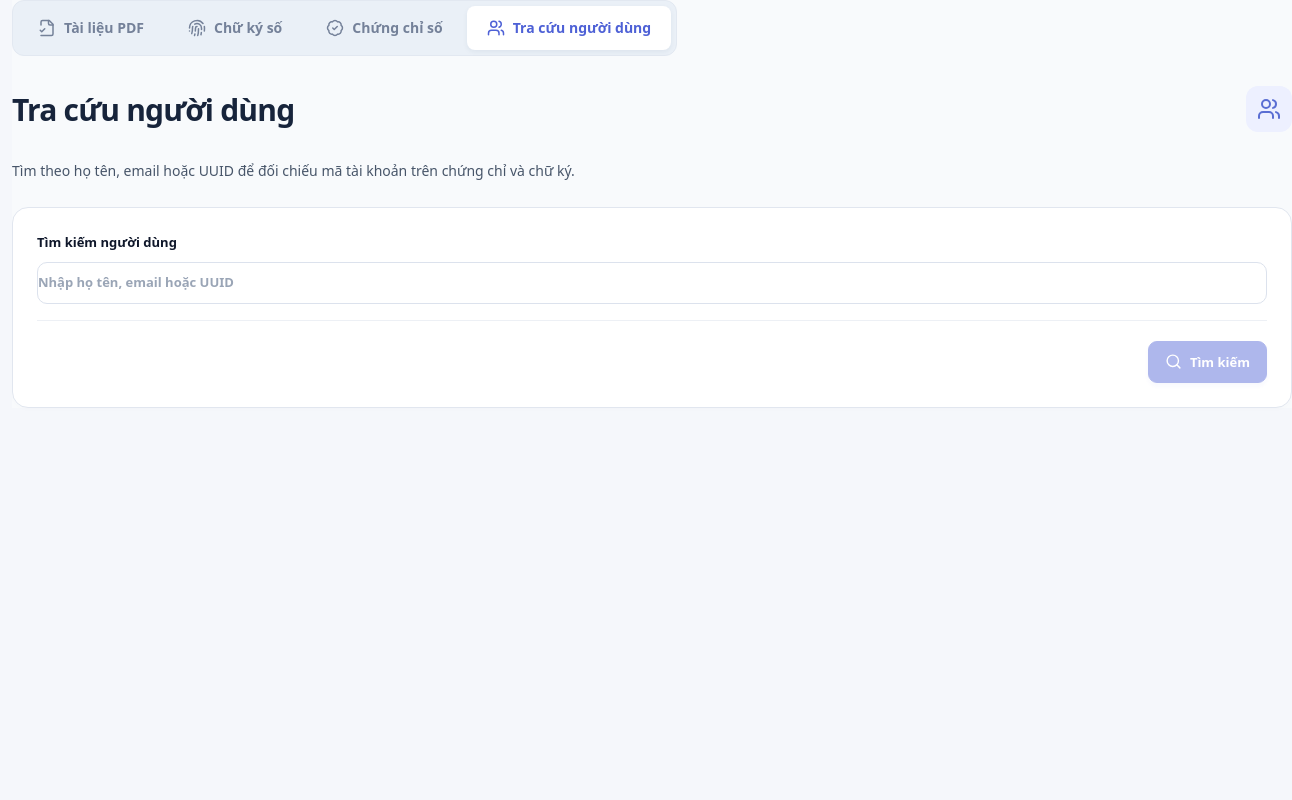
Scenario: waits for a search, then shows name, email, full UUID and account status
Expected: the button "Tìm kiếm" is disabled, [1148,341,1267,383]
Type "Nguyễn Minh" into the search field labelled "Tìm kiếm người dùng" at point(652, 283), box [37,262,1267,304]
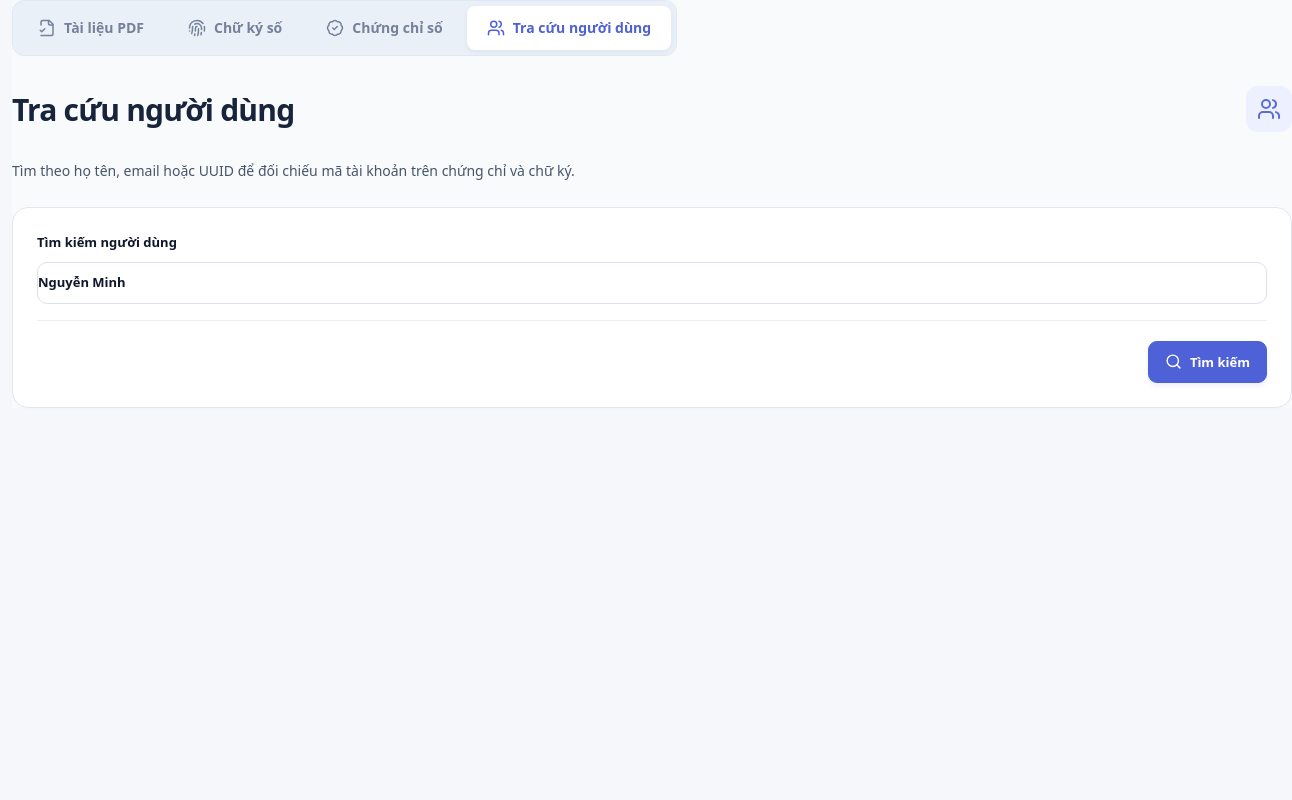
Click the button "Tìm kiếm" at point(1207, 362), box [1148,341,1267,383]
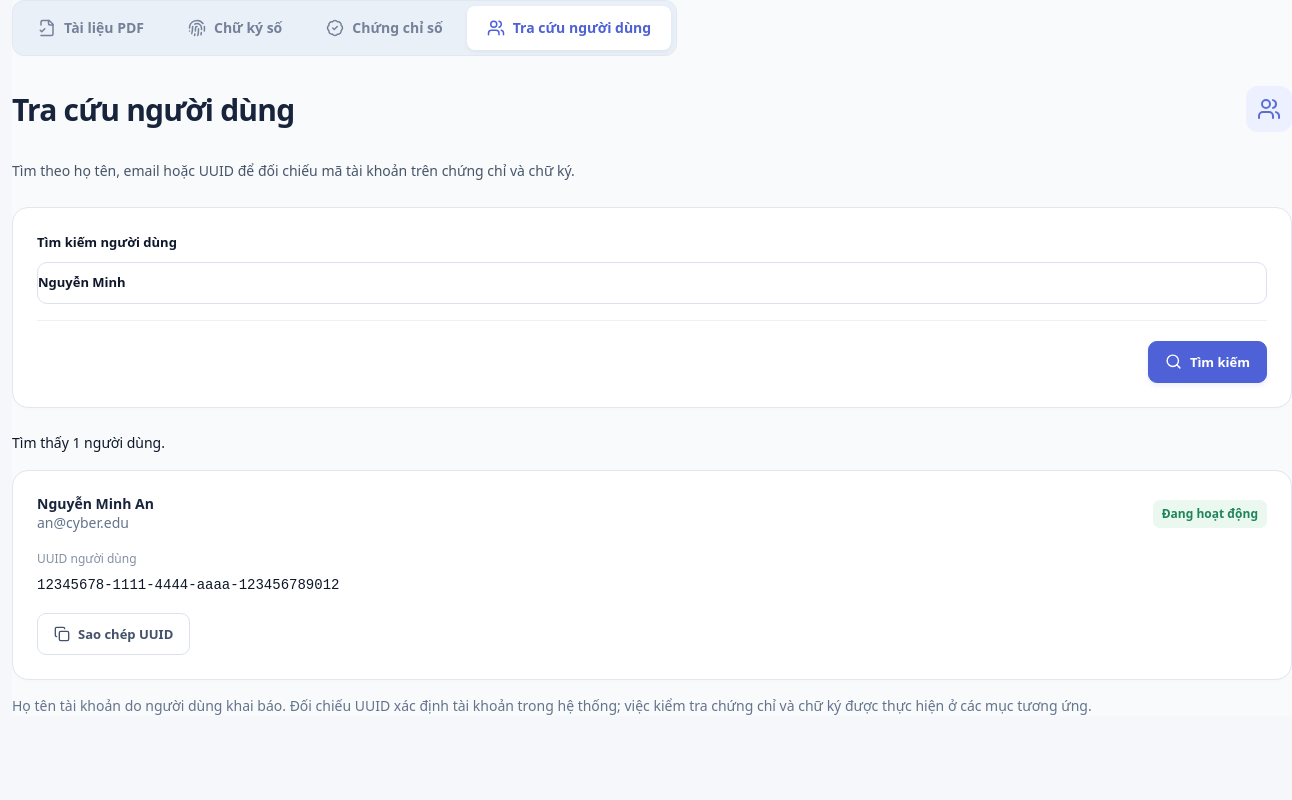
Result: the heading "Nguyễn Minh An" is shown at [37,495,154,513]
Result: the text "an@cyber.edu" is shown at [37,513,129,532]
Result: the text "12345678-1111-4444-aaaa-123456789012" is shown at [37,577,340,593]
